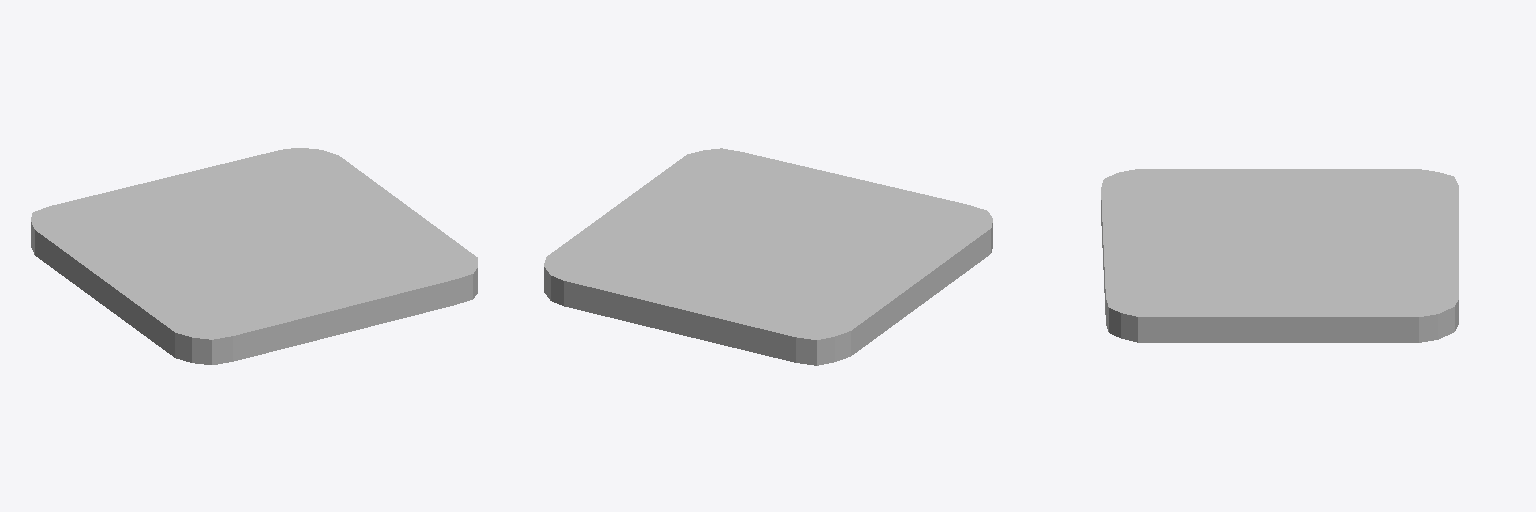
Rendered from StandardGround.obj.
3 renders of one model, left to right at view 1: azimuth 30°, elevation 25°; view 2: azimuth 150°, elevation 25°; view 3: azimuth 270°, elevation 25°, orthographic.
Parts seen in each view (by area): view 1: StandardGround; view 2: StandardGround; view 3: StandardGround.
Boxes of the visible parts, x1,y1,x2,y2 form: StandardGround: [31, 148, 477, 364]; StandardGround: [544, 148, 992, 365]; StandardGround: [1101, 169, 1458, 342].
Size of the model in its own units: 12.43 by 1 by 12.67.